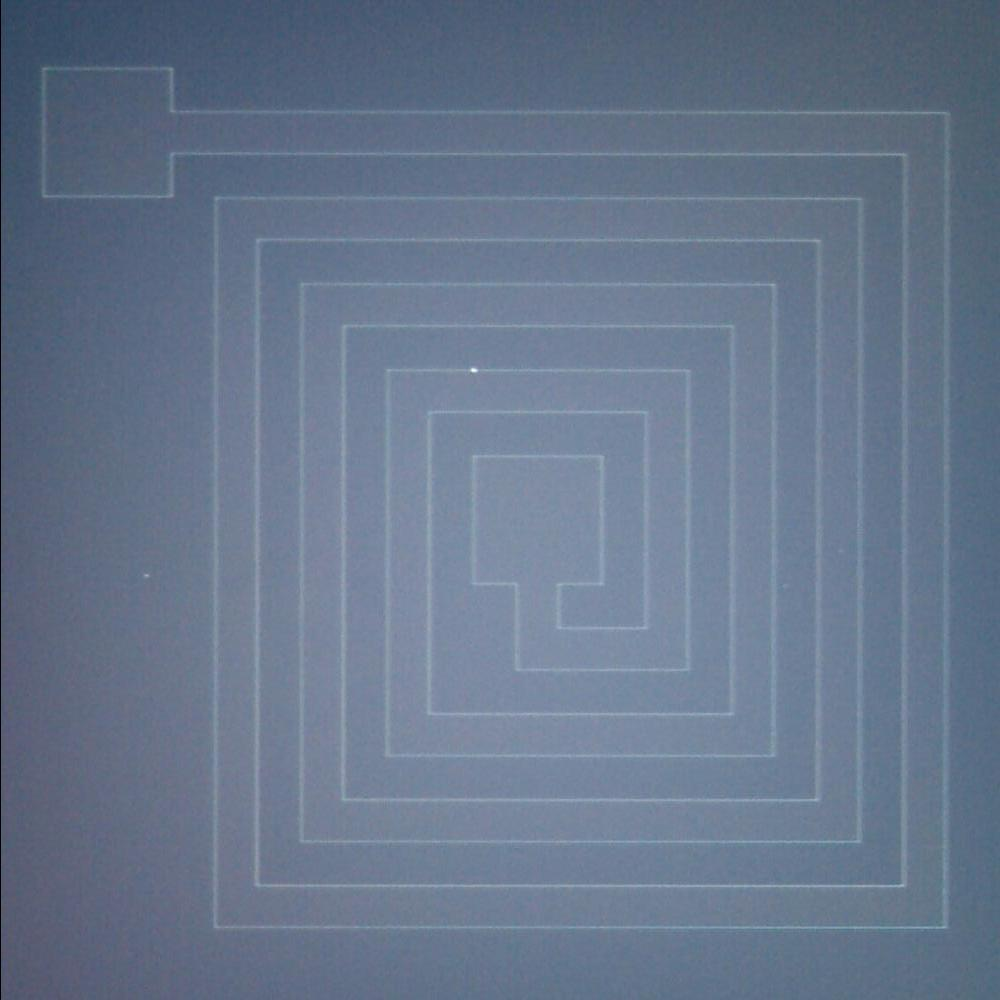dot: (460, 358, 490, 382)
